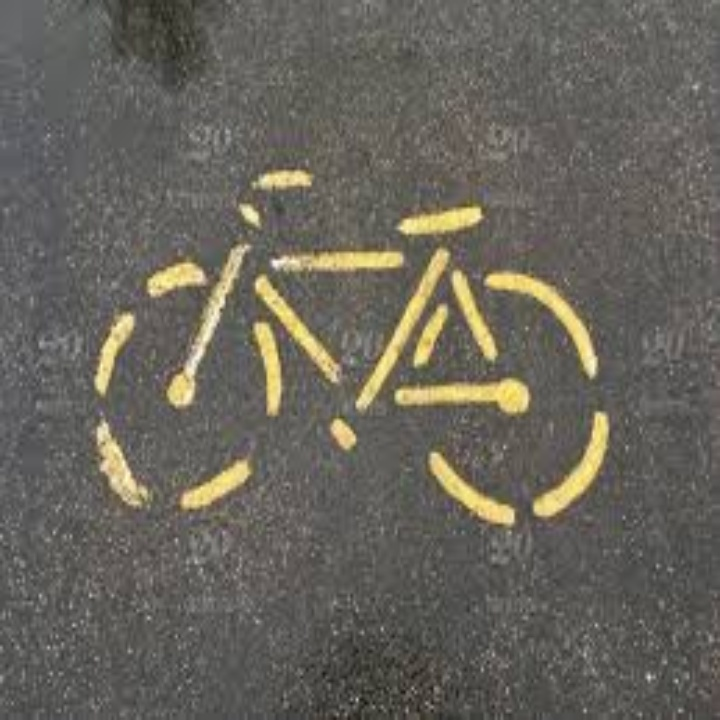bicycle: (81, 161, 611, 529)
